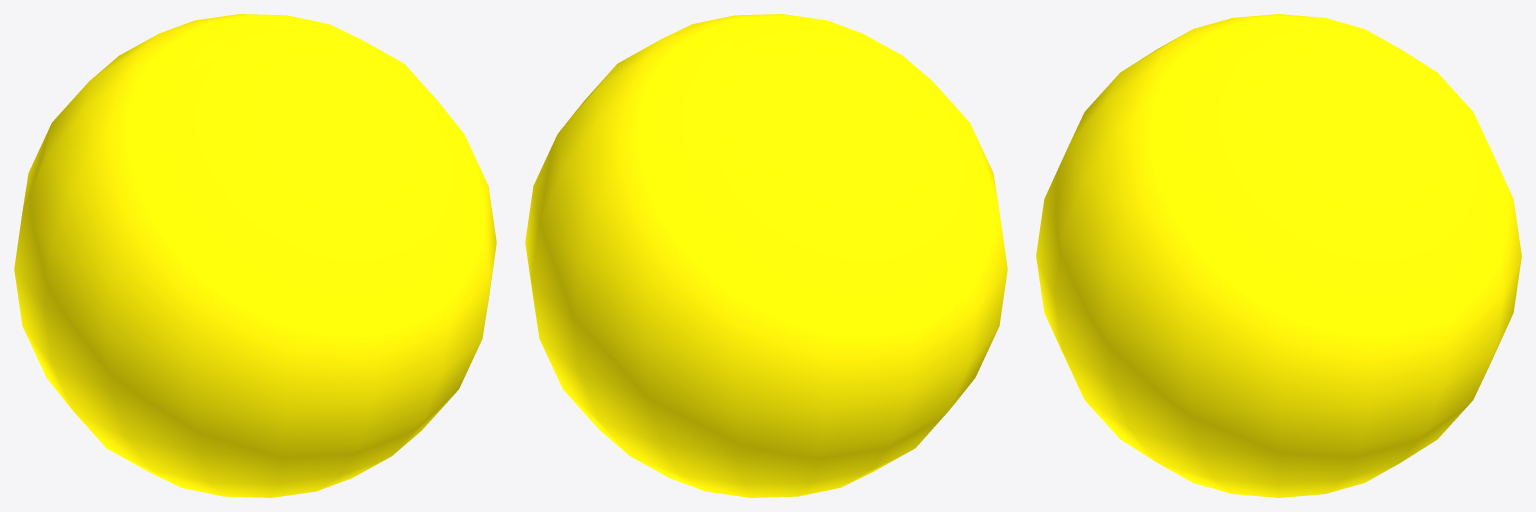
Rendered from Candy_04.glb.
3 renders of one model, left to right at view 1: azimuth 30°, elevation 25°; view 2: azimuth 150°, elevation 25°; view 3: azimuth 270°, elevation 25°, orthographic.
Visible parts, largest first — view 1: Candy_04; view 2: Candy_04; view 3: Candy_04.
Part boxes in pixels (left/top/right/bottom): Candy_04: left=14, top=14, right=496, bottom=497; Candy_04: left=525, top=14, right=1007, bottom=497; Candy_04: left=1036, top=14, right=1521, bottom=497.
Bounding box in the file's own units: 1.22 × 1.22 × 1.22.
Materials: 1 (1 with a texture image).
